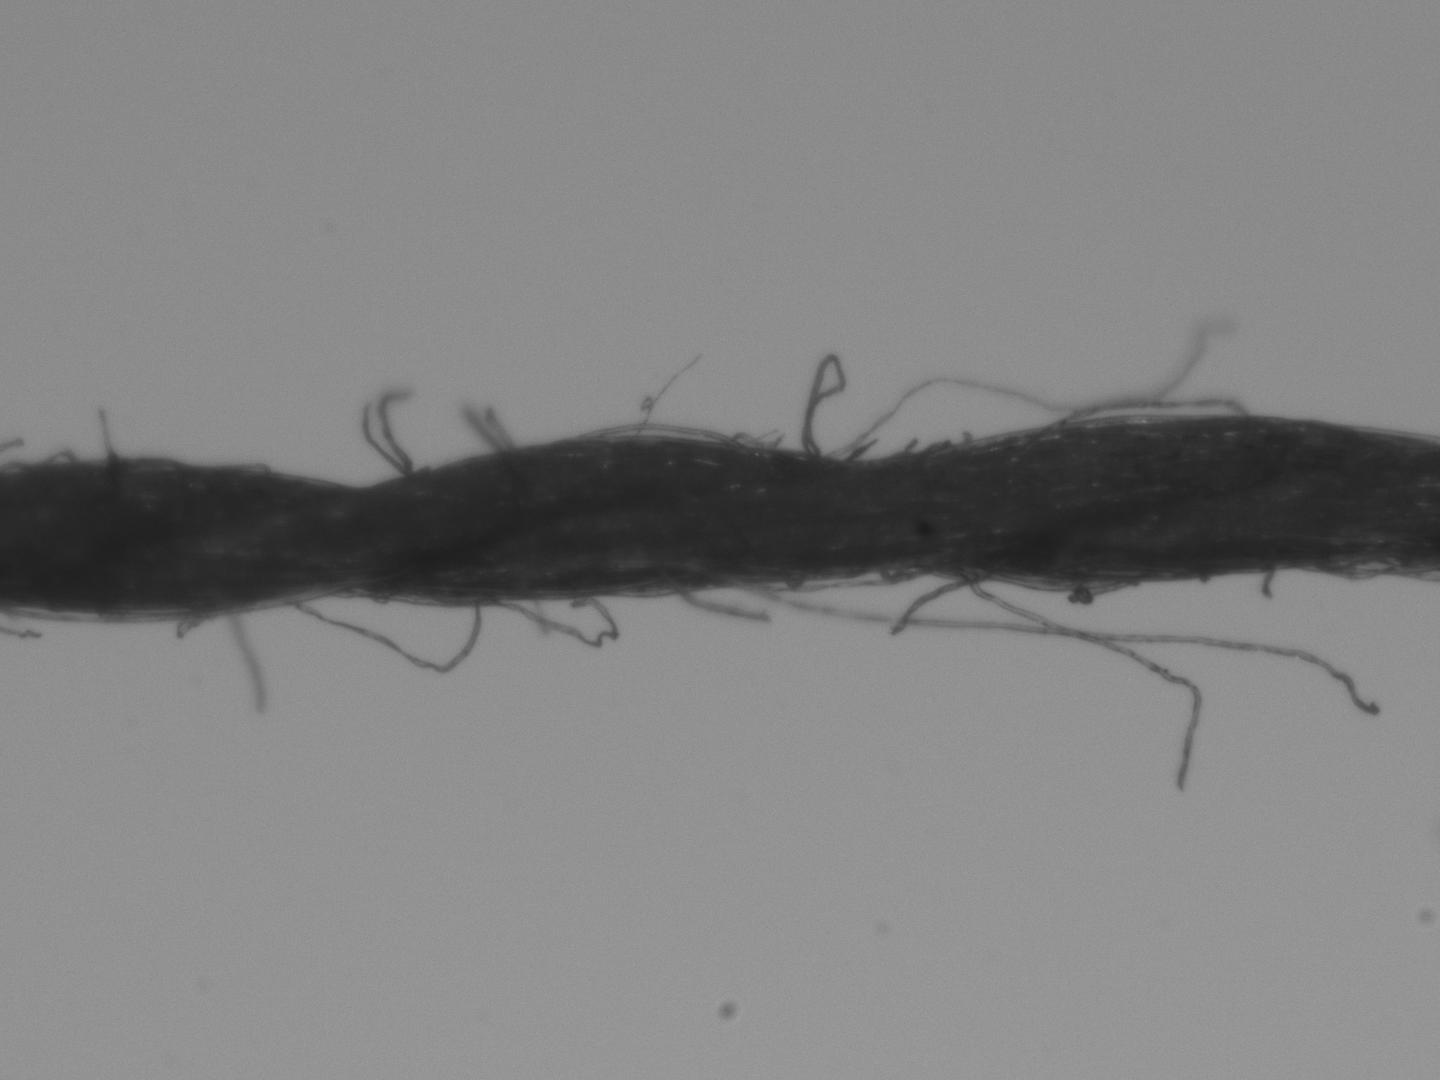loop_fiber: (288, 590, 482, 674), (1050, 398, 1244, 429), (497, 592, 612, 643), (751, 566, 929, 593), (984, 572, 1146, 598), (570, 420, 740, 444), (1306, 559, 1391, 580), (44, 448, 79, 463)
